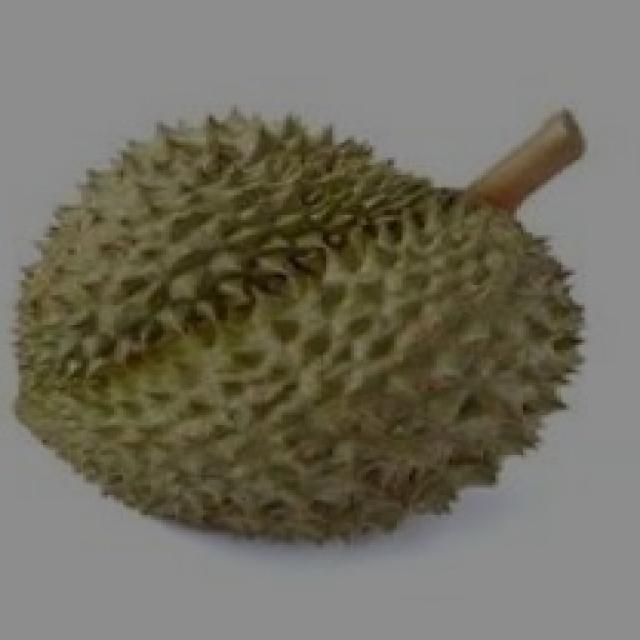fruit: (274, 170, 634, 592), (0, 230, 363, 595)
